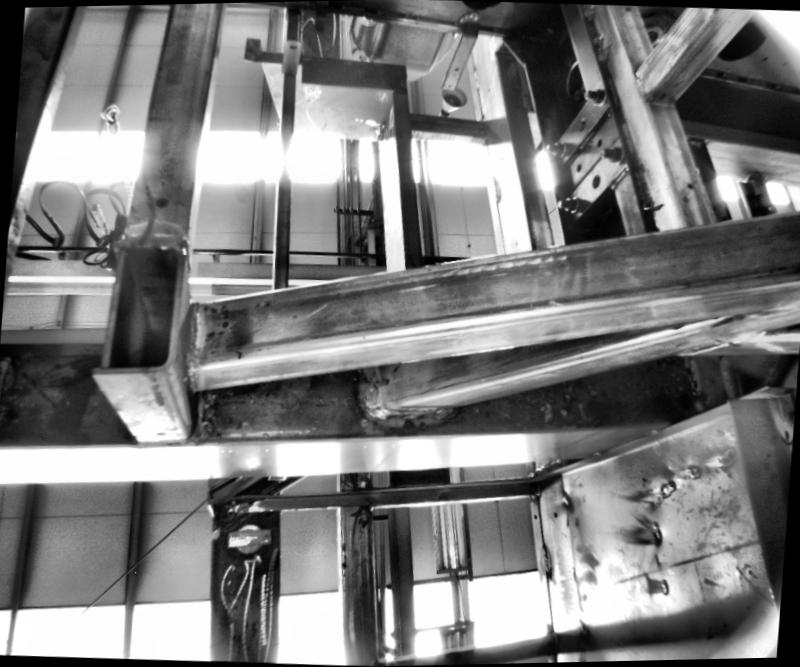bolt: (580, 82, 606, 105), (598, 146, 628, 164), (554, 194, 578, 212), (543, 140, 565, 155)
bracket: (538, 74, 644, 226), (439, 6, 480, 92), (278, 26, 300, 75)
hole: (150, 191, 170, 209), (576, 116, 589, 130), (376, 376, 391, 388), (589, 175, 600, 191), (154, 430, 164, 439), (574, 162, 582, 172), (595, 137, 603, 147), (686, 182, 694, 190), (511, 240, 518, 248), (286, 42, 294, 48), (453, 66, 459, 72), (445, 82, 451, 88), (552, 512, 558, 518), (532, 514, 536, 519), (486, 88, 488, 92)
welding: (362, 402, 449, 423), (359, 365, 387, 416), (181, 302, 203, 366), (537, 544, 551, 577), (469, 66, 480, 88), (458, 11, 477, 20)
